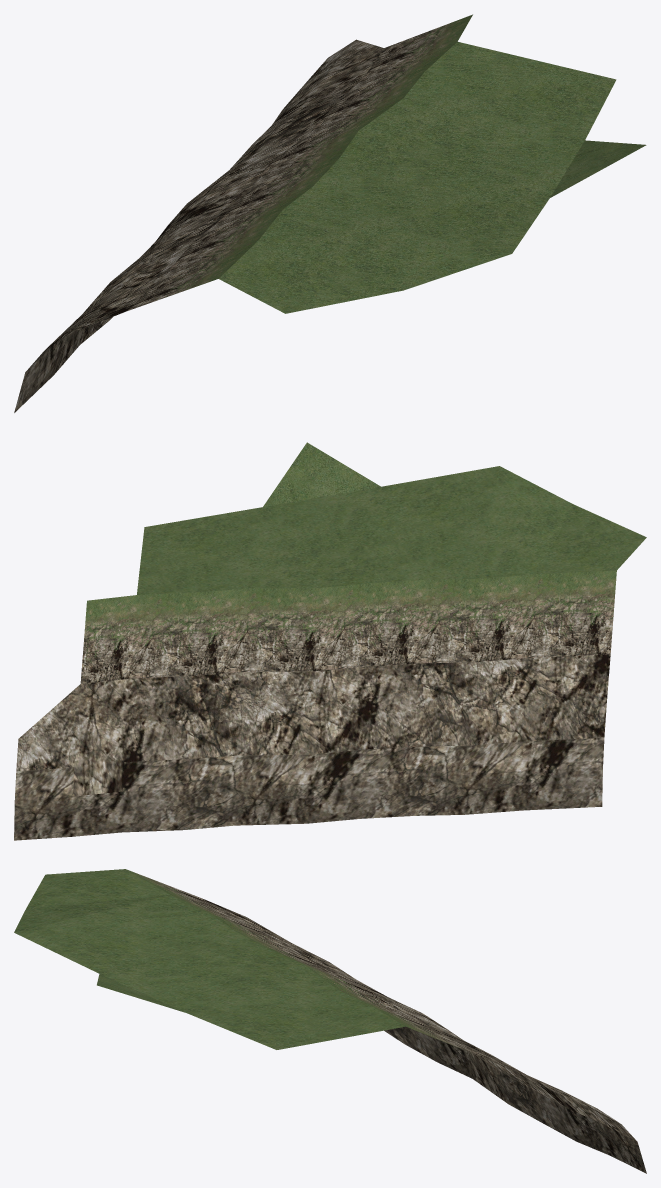
The model's file is a_carisle_mid_landmass_02_10.fbx.
The picture shows the model from 3 angles, top to bottom: view 1: azimuth 30°, elevation 25°; view 2: azimuth 150°, elevation 25°; view 3: azimuth 270°, elevation 25°; orthographic projection. The views are drawn at different scales.
Parts seen in each view (by area): view 1: a_carisle_mid_landmass_02_10; view 2: a_carisle_mid_landmass_02_10; view 3: a_carisle_mid_landmass_02_10.
Part boxes in pixels (x1,y1,x2,y2): a_carisle_mid_landmass_02_10: (14, 14, 646, 412); a_carisle_mid_landmass_02_10: (14, 442, 646, 840); a_carisle_mid_landmass_02_10: (14, 869, 646, 1173).
Size of the model in its own units: 12.74 by 15.47 by 5.04.
